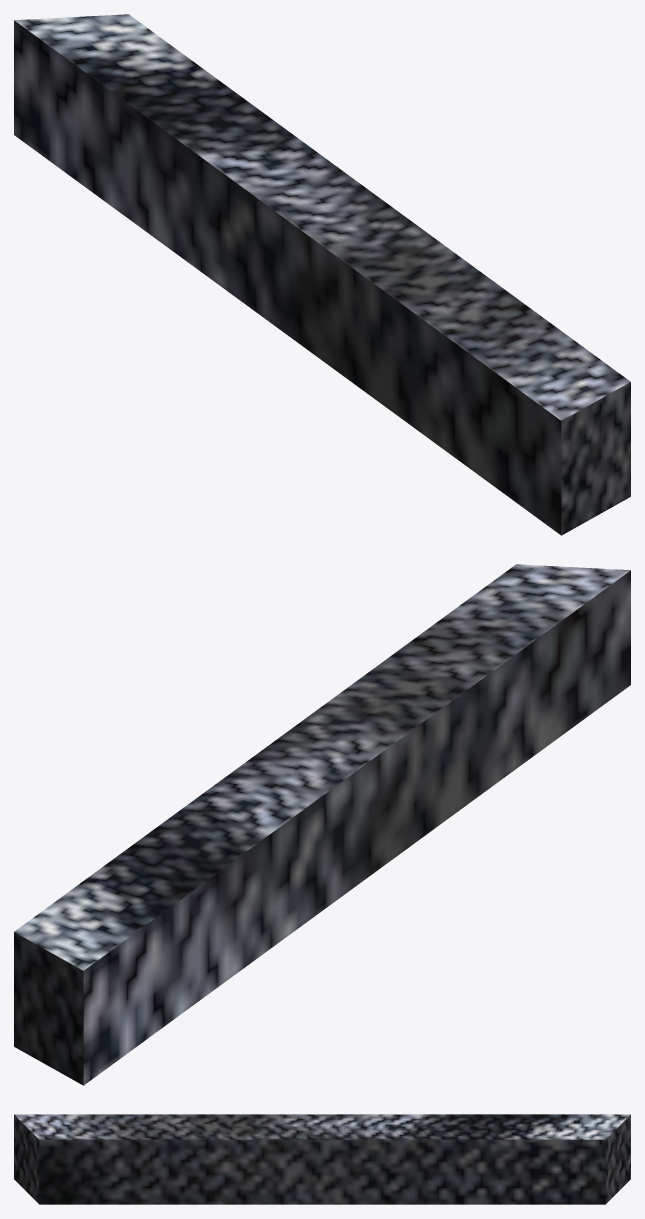
Rendered from GLA - Ground Vehicles - = - Damage State 4 - UVTechVan_d4.glb.
The picture shows the model from 3 angles, top to bottom: view 1: azimuth 30°, elevation 25°; view 2: azimuth 150°, elevation 25°; view 3: azimuth 270°, elevation 25°; orthographic projection. The views are drawn at different scales.
Visible parts, largest first — view 1: UVTECHVAN_D4; view 2: UVTECHVAN_D4; view 3: UVTECHVAN_D4.
Part boxes in pixels (x1,y1,x2,y2): UVTECHVAN_D4: [14, 14, 630, 535]; UVTECHVAN_D4: [14, 564, 630, 1085]; UVTECHVAN_D4: [14, 1114, 630, 1204].
Bounding box in the file's own units: 1.21 × 1.44 × 12.43.
1 material, 1 textured.
